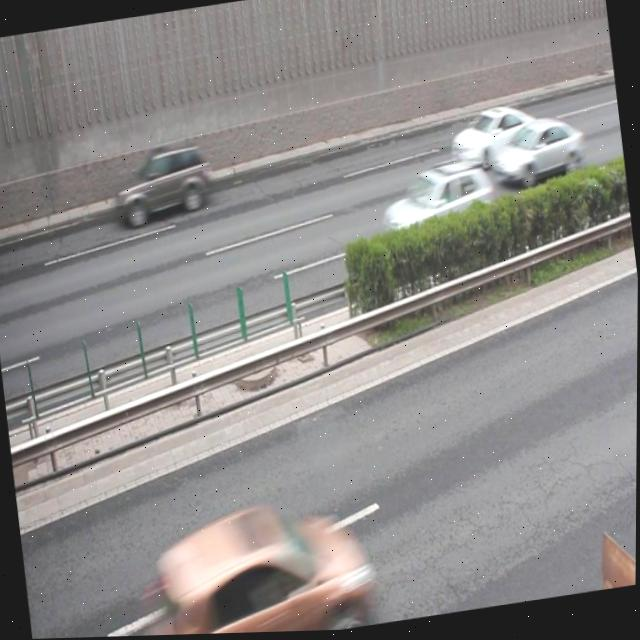car: (133, 488, 373, 637), (374, 155, 497, 259), (111, 140, 216, 230), (485, 116, 585, 191), (444, 102, 542, 177)
